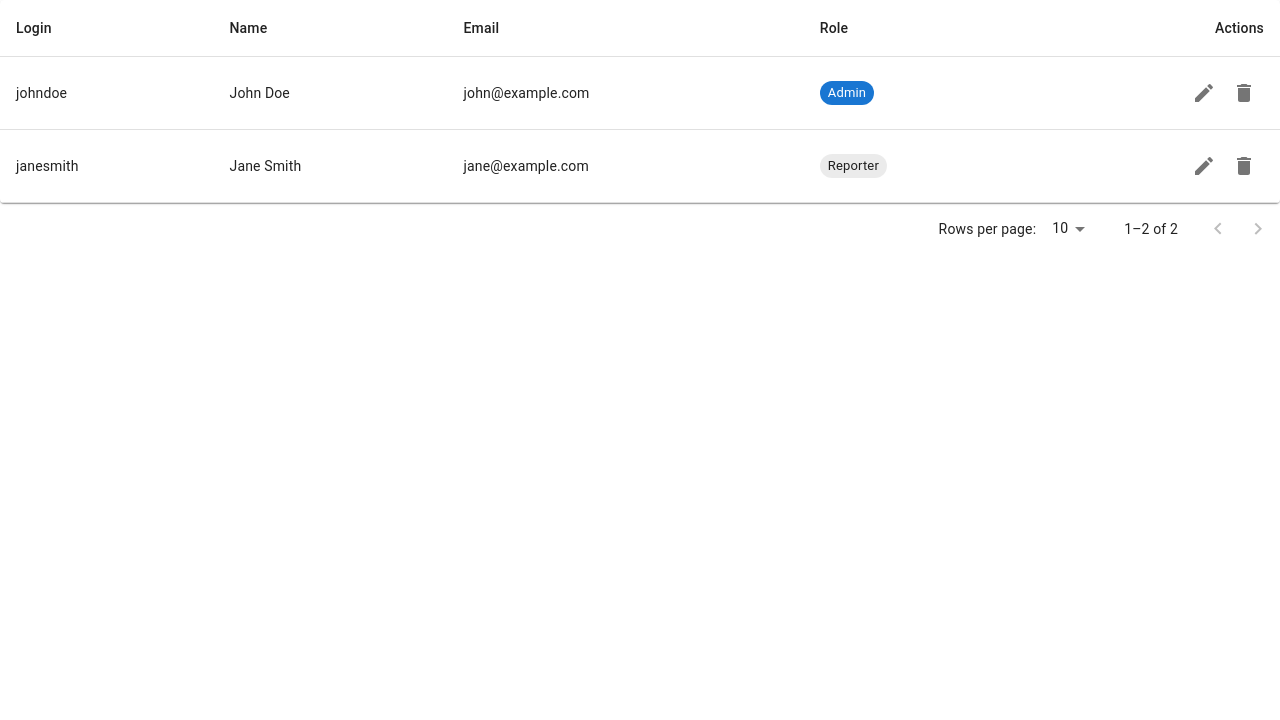
Test: UserTable › shows delete confirmation dialog
Using data-testid to find the delete button
Click the button with test id "delete-user-1": click(1244, 93) [1224, 73, 1264, 113]
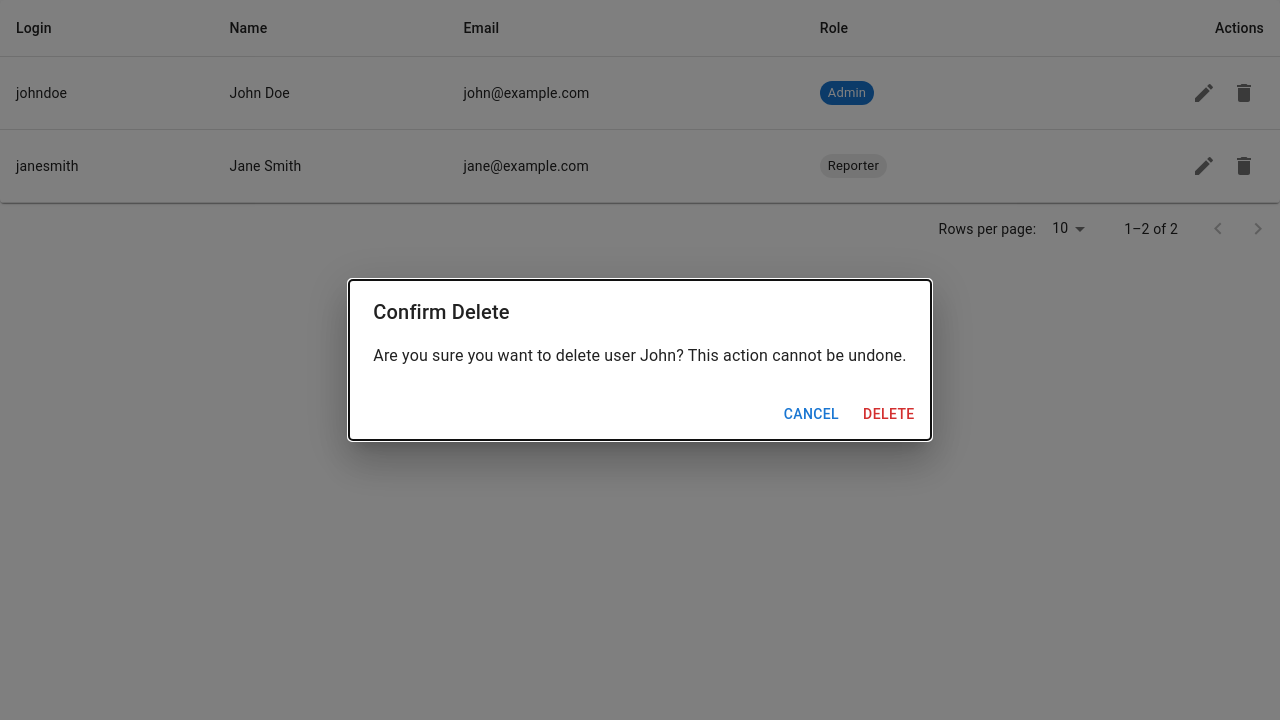
expect the text with test id "delete-confirmation-text" shows "Are you sure you want to delete user": met, box [373, 346, 640, 365]
expect the text with test id "delete-confirmation-text" shows "John": met, box [640, 346, 676, 365]
